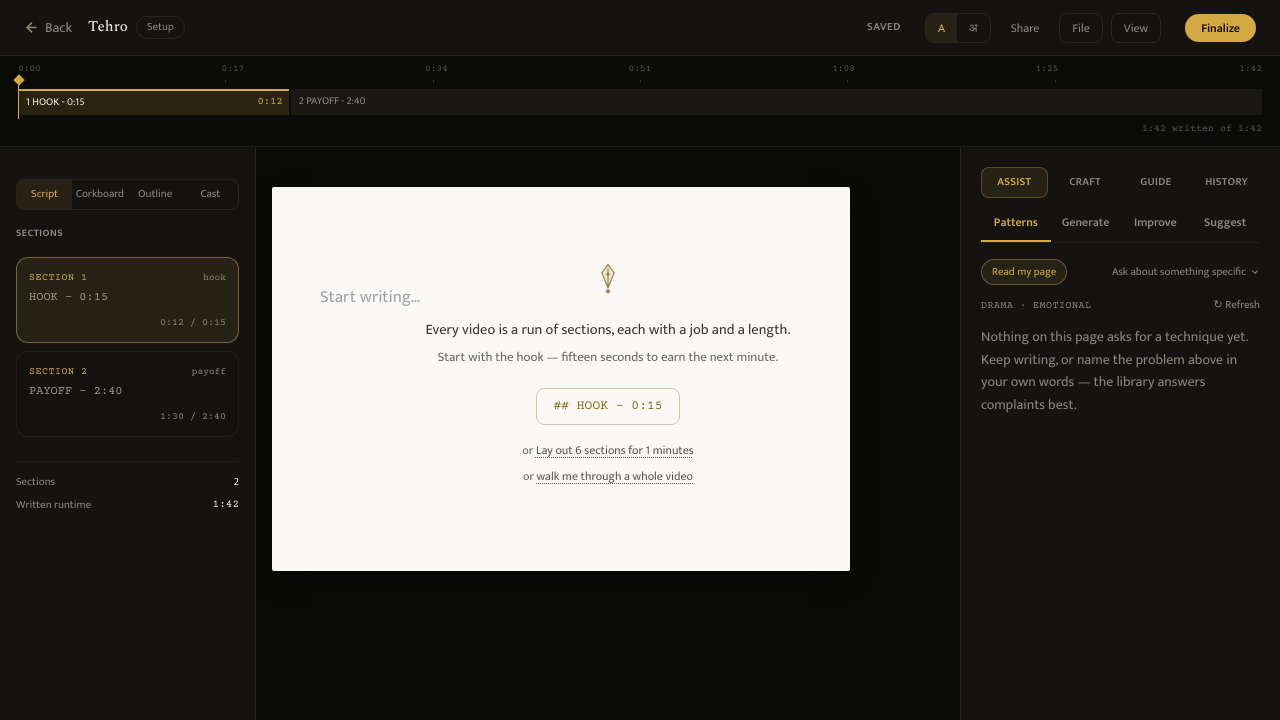
which typing rules the editor uses › draws the retention shape in the Outline
Expected: the text box named "Screenplay" is shown, [272,187,850,571]
Click the tab "Outline" at (155, 195), box [128,180,183,209]
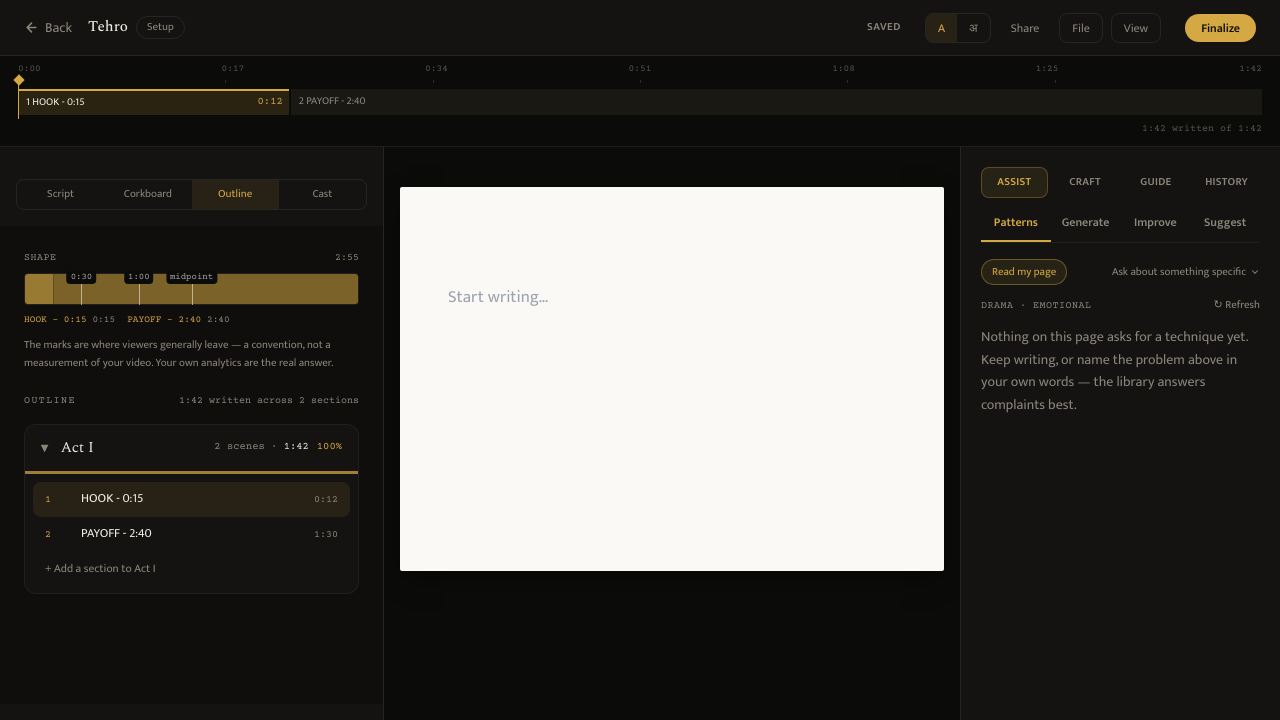
Expected: the element named "shape of this video" is shown, [24,250,359,373]
